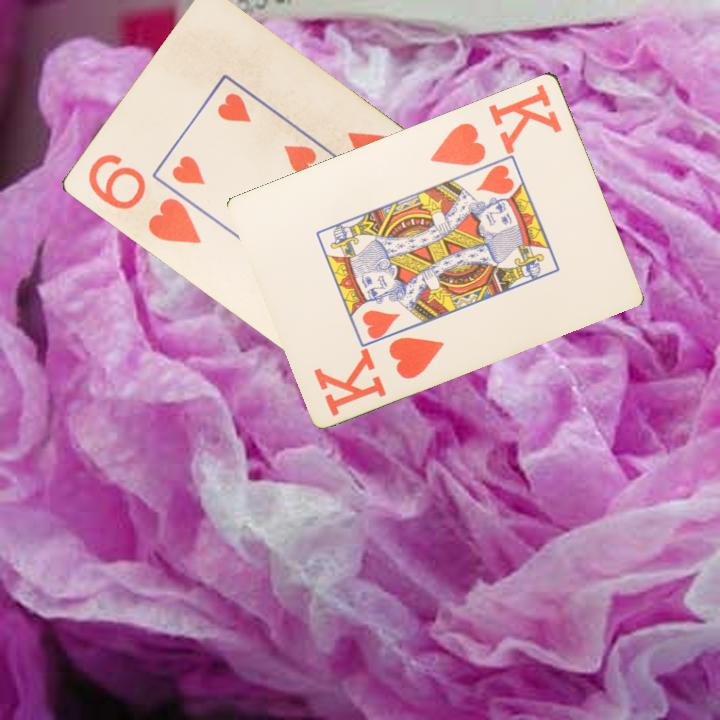6h: (83, 150, 204, 247)
Kh: (427, 79, 566, 169), (310, 332, 448, 419)
